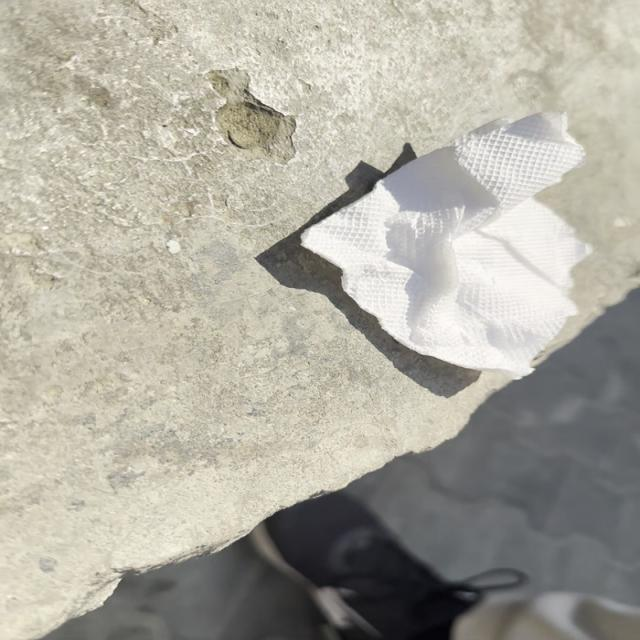tissue: (289, 106, 598, 374)
